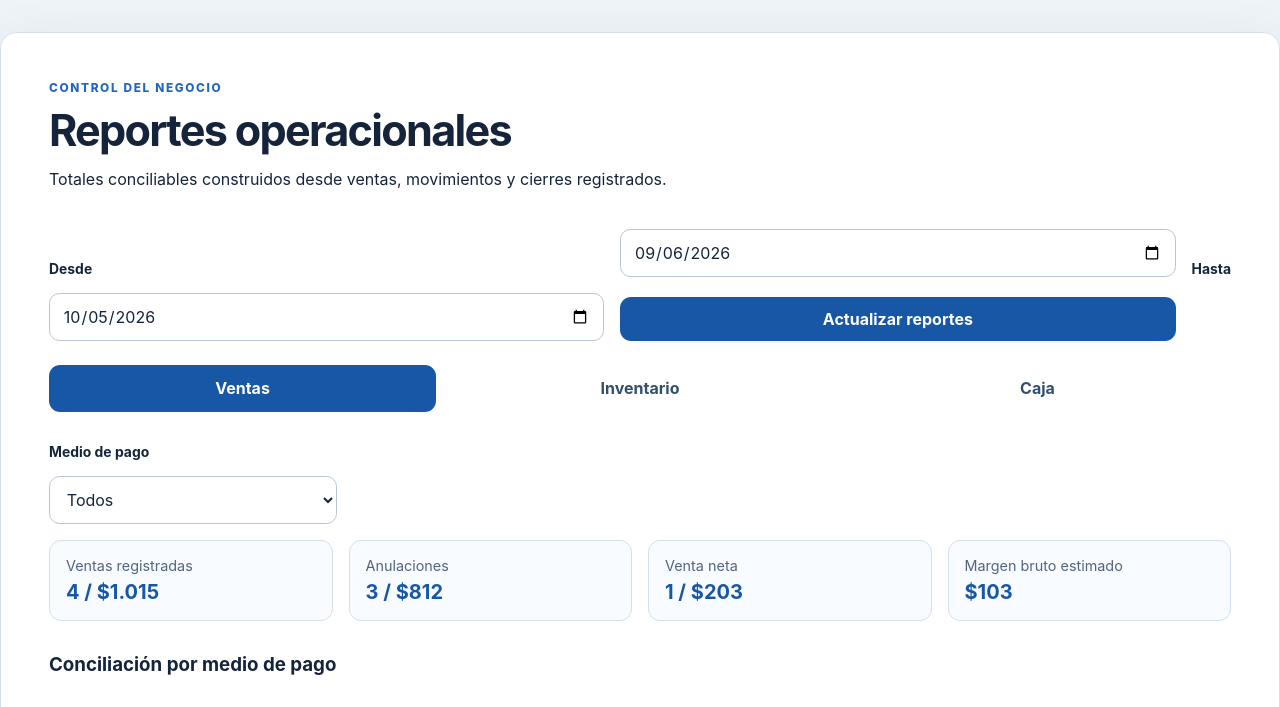
Test: ReportsWorkspace › switches to inventory and cash reports
This screenshot has width=1280, height=707.
Expected: the text "Ventas registradas" is shown, top-left (66, 556), bottom-right (193, 574)
What coordinates should you click on to do the following:
click the button "Inventario"
I would click on:
 (640, 388)
Its box is top-left (446, 365), bottom-right (834, 412).
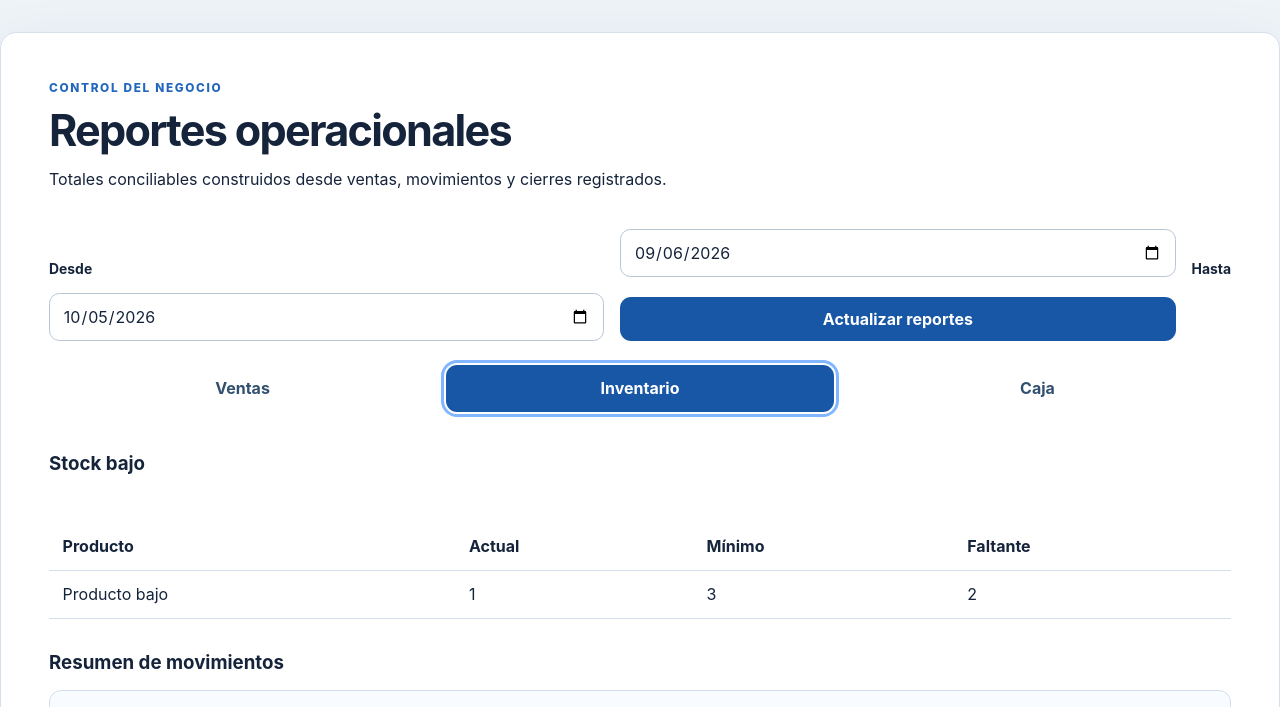
Expected: the text "Producto bajo" is shown 2 times
What coordinates should you click on to do the following:
click the button "Caja"
I would click on:
 (1037, 388)
Its box is top-left (844, 365), bottom-right (1231, 412).
(page scrolled)
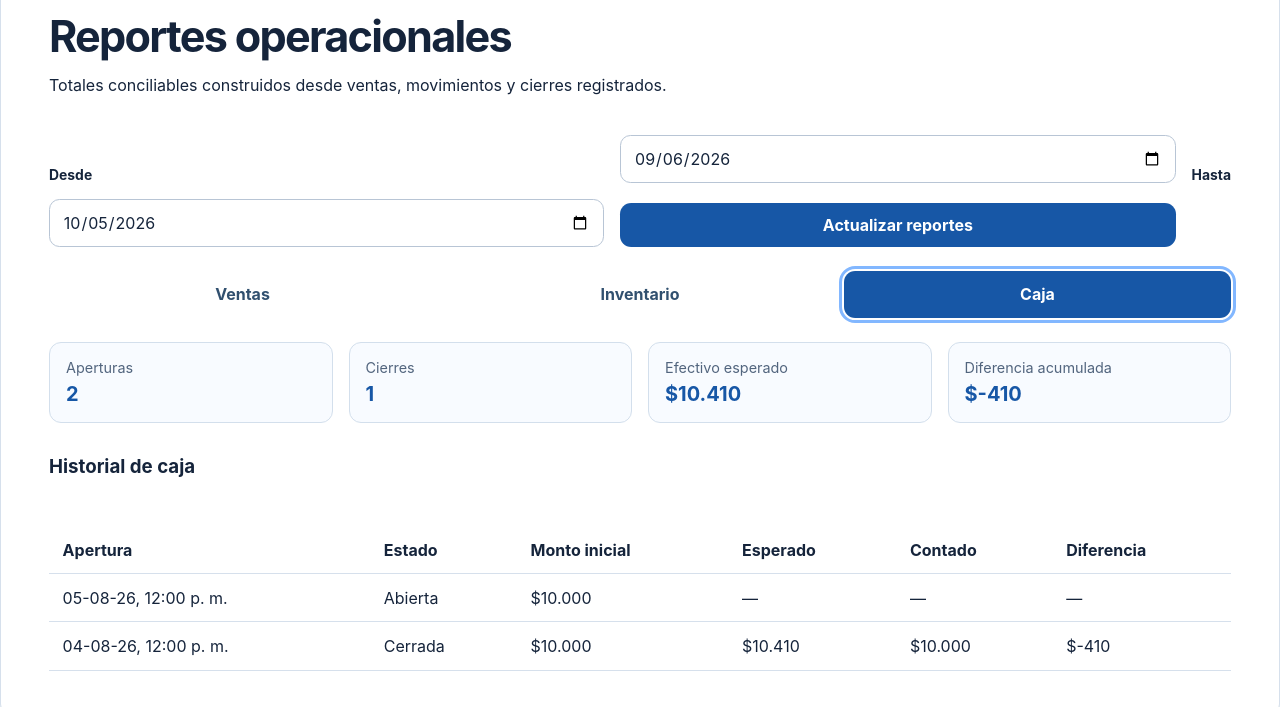
Expected: the text "Aperturas" is shown, top-left (66, 358), bottom-right (133, 376)
Expected: the text "Diferencia acumulada" is shown, top-left (964, 358), bottom-right (1112, 376)
Expected: the text "Abierta" is shown, top-left (370, 574), bottom-right (517, 622)
